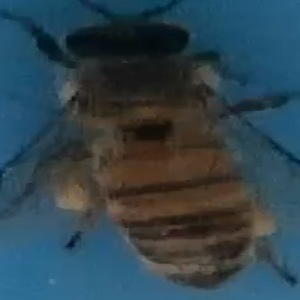bee: (5, 5, 298, 288)
